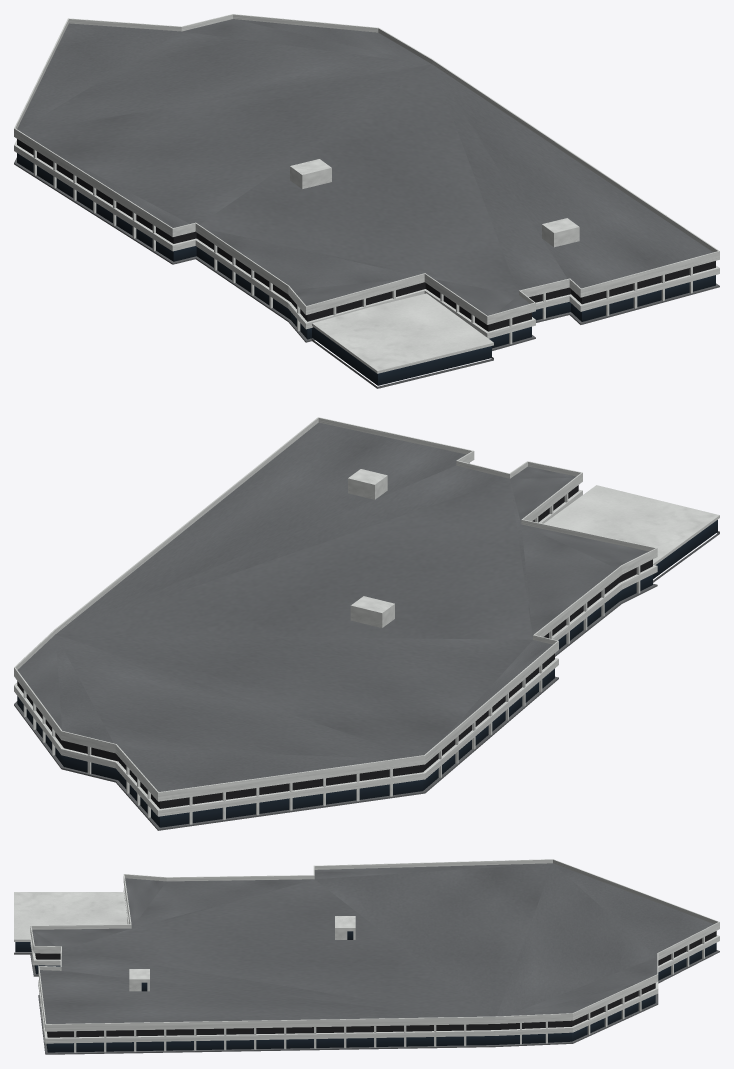
Rendered from SM_Mirabello_Multipiano.fbx.
3 renders of one model, top to bottom at view 1: azimuth 30°, elevation 25°; view 2: azimuth 150°, elevation 25°; view 3: azimuth 270°, elevation 25°, orthographic. The views are drawn at different scales.
Visible parts, largest first — view 1: SM_Mirabello_Multipiano; view 2: SM_Mirabello_Multipiano; view 3: SM_Mirabello_Multipiano.
Boxes of the visible parts, x1,y1,x2,y2 form: SM_Mirabello_Multipiano: (14,14,719,388); SM_Mirabello_Multipiano: (14,417,719,830); SM_Mirabello_Multipiano: (14,859,719,1054).
Size of what is drawn, in the model's own units: 9510 by 17150 by 1030.
1 material, 1 textured.
